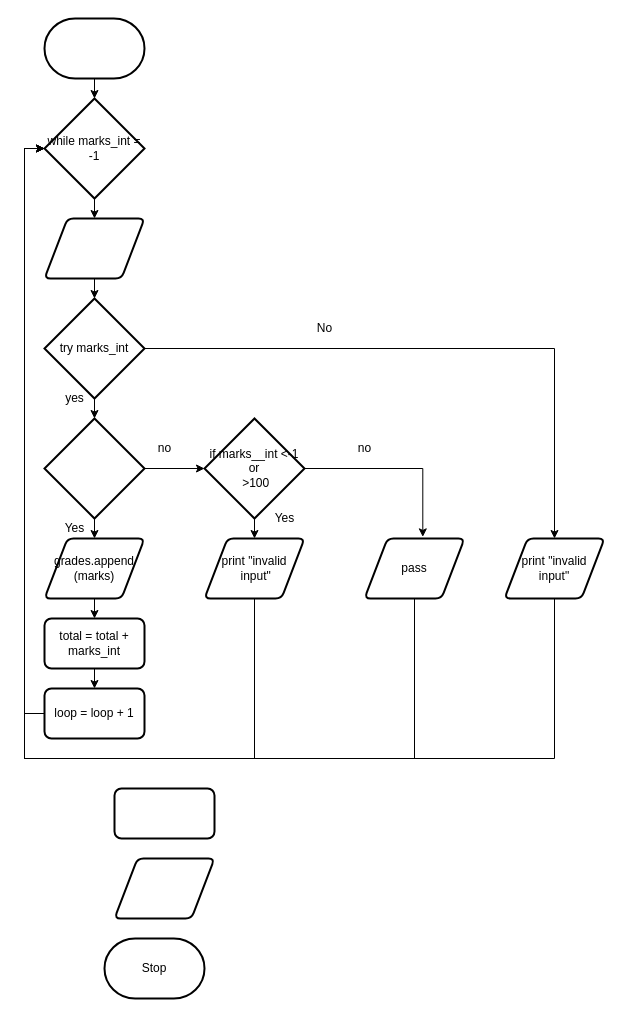
This 623x1016 diagram has some shape labels left out. The box of each missing label's shape, as (x1, y1, x2, y2) in pixels:
average = total / loop: (113, 787, 215, 839)
if marks_int > -1 and <101: (43, 417, 145, 519)
input your mark (input -1 to end): (43, 217, 145, 279)
return average: (113, 857, 215, 919)
Start: (43, 17, 145, 79)
